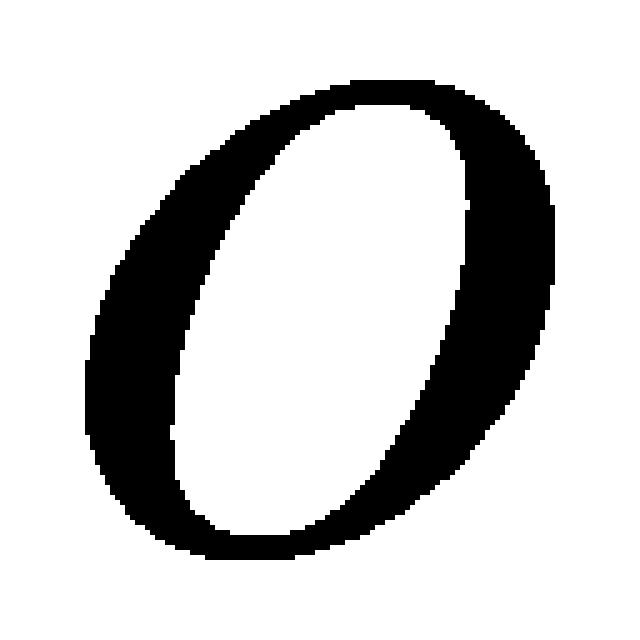O: (80, 80, 560, 585)
